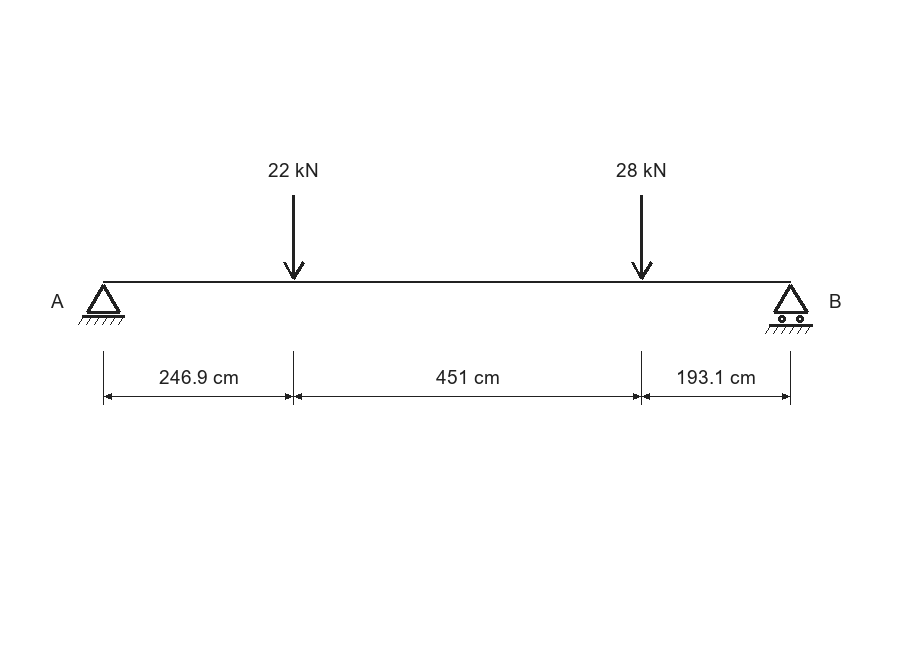pin_support: (78, 284, 125, 325)
point_load: (283, 195, 305, 280), (631, 195, 653, 280)
roller_support: (765, 284, 813, 334)
